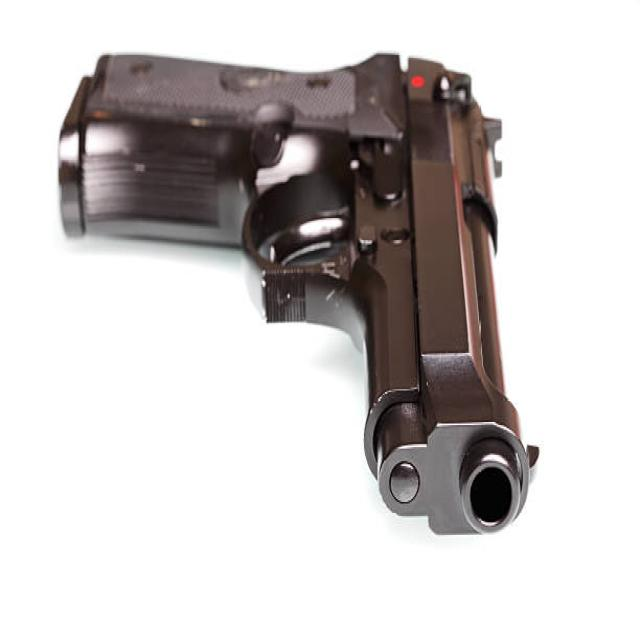pistol: (48, 44, 546, 550)
